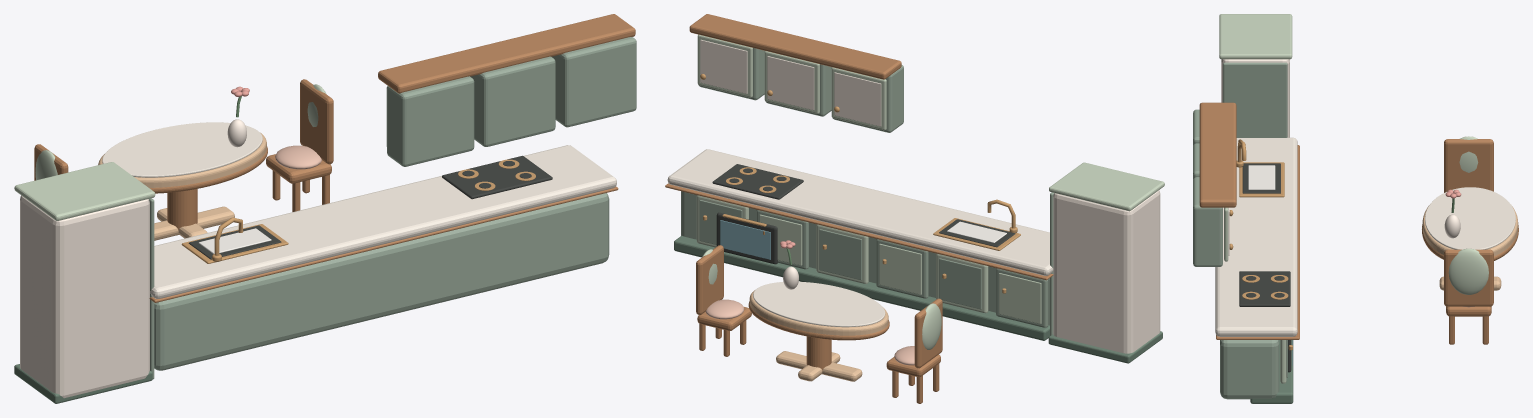
Rendered from kitchen-architecture-r2.glb.
The picture shows the model from 3 angles, left to right: view 1: azimuth 30°, elevation 25°; view 2: azimuth 150°, elevation 25°; view 3: azimuth 270°, elevation 25°; orthographic projection. The views are drawn at different scales.
Visible parts, largest first — view 1: B2_counter_carcase, B2_fridge_enclosure, B2_quartz_slab, B2_upper_crown, B2_upper_frame0, B2_upper_frame2, B2_upper_frame1, B2_table_quartz, B2_fridge_top, B2_hob, B2_chair_back_R, B2_oak_counter_lip (+11 smaller); view 2: B2_fridge_enclosure, B2_quartz_slab, B2_upper_crown, B2_toekick, B2_table_quartz, B2_fridge_top, B2_counter_carcase, B2_upper_inset0, B2_upper_inset1, B2_upper_inset2, B2_oak_counter_lip, B2_door_recess_0 (+35 smaller); view 3: B2_quartz_slab, B2_fridge_side, B2_table_quartz, B2_upper_crown, B2_counter_carcase, B2_fridge_top, B2_chair_back_L, B2_upper_frame2, B2_chair_back_R, B2_hob, B2_chair_back_cushion_R, B2_oak_counter_lip (+10 smaller).
Part boxes in pixels (x1,y1,x2,y2): B2_counter_carcase: [154, 193, 609, 370]; B2_fridge_enclosure: [20, 195, 149, 398]; B2_quartz_slab: [150, 145, 616, 298]; B2_upper_crown: [378, 14, 635, 93]; B2_upper_frame0: [387, 76, 474, 166]; B2_upper_frame2: [552, 37, 636, 127]; B2_upper_frame1: [470, 56, 555, 146]; B2_table_quartz: [102, 122, 262, 177]; B2_fridge_top: [14, 162, 155, 220]; B2_hob: [442, 155, 552, 199]; B2_chair_back_R: [300, 79, 333, 164]; B2_oak_counter_lip: [149, 186, 618, 302]; B2_fridge_enclosure: [1053, 190, 1160, 353]; B2_quartz_slab: [667, 149, 1053, 275]; B2_upper_crown: [689, 14, 901, 79]; B2_toekick: [674, 235, 1049, 340]; B2_table_quartz: [753, 281, 885, 327]; B2_fridge_top: [1049, 162, 1164, 211]; B2_counter_carcase: [681, 191, 1049, 325]; B2_upper_inset0: [834, 72, 881, 126]; B2_upper_inset1: [767, 56, 814, 110]; B2_upper_inset2: [700, 39, 747, 93]; B2_oak_counter_lip: [665, 183, 1053, 280]; B2_door_recess_0: [999, 273, 1041, 323]; B2_quartz_slab: [1215, 137, 1297, 336]; B2_fridge_side: [1223, 62, 1287, 137]; B2_table_quartz: [1425, 187, 1515, 249]; B2_upper_crown: [1199, 102, 1236, 207]; B2_counter_carcase: [1220, 340, 1279, 399]; B2_fridge_top: [1219, 14, 1292, 59]; B2_chair_back_L: [1444, 139, 1493, 192]; B2_upper_frame2: [1193, 177, 1222, 266]; B2_chair_back_R: [1444, 249, 1493, 306]; B2_hob: [1239, 271, 1290, 306]; B2_chair_back_cushion_R: [1448, 248, 1488, 294]; B2_oak_counter_lip: [1216, 145, 1299, 339].
Size of the model in its own units: 7.29 by 3.04 by 4.24.
